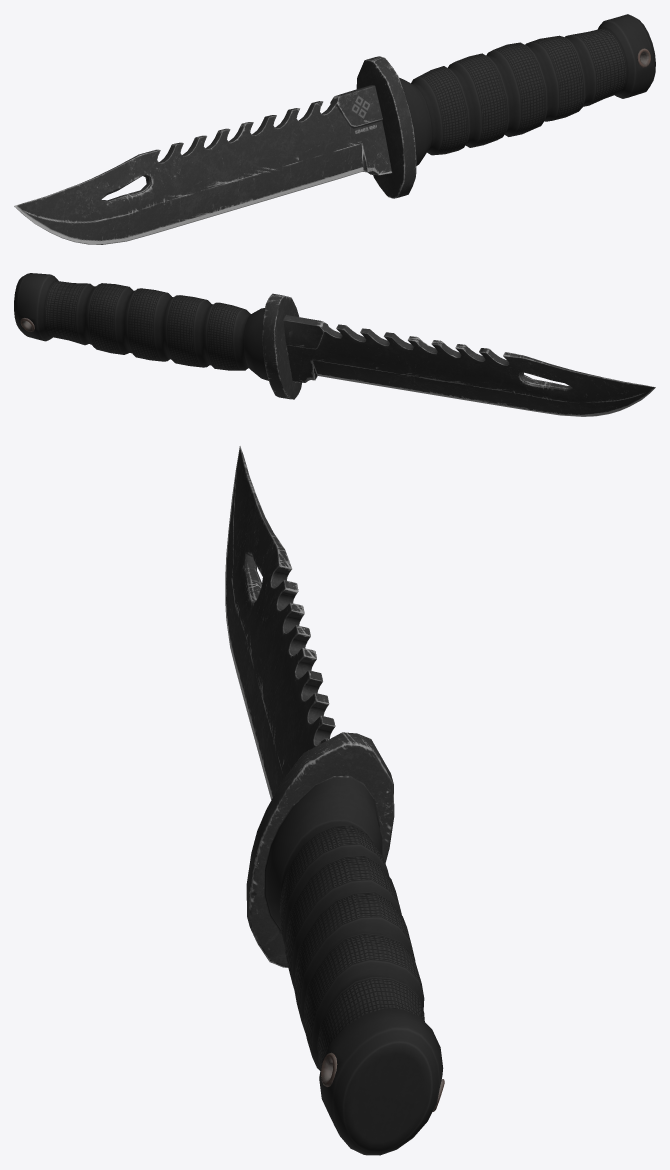
3 views of the same model, one above another, from view 1: azimuth 30°, elevation 25°; view 2: azimuth 150°, elevation 25°; view 3: azimuth 270°, elevation 25° (orthographic). The views are drawn at different scales.
Parts seen in each view (by area): view 1: knife_LOW_kinfe_0; view 2: knife_LOW_kinfe_0; view 3: knife_LOW_kinfe_0.
Boxes of the visible parts, x1,y1,x2,y2 form: knife_LOW_kinfe_0: (14, 14, 655, 244); knife_LOW_kinfe_0: (14, 273, 655, 416); knife_LOW_kinfe_0: (225, 446, 444, 1155).
Size of the model in its own units: 4.31 by 0.7779 by 0.6849.
1 material, 1 textured.
